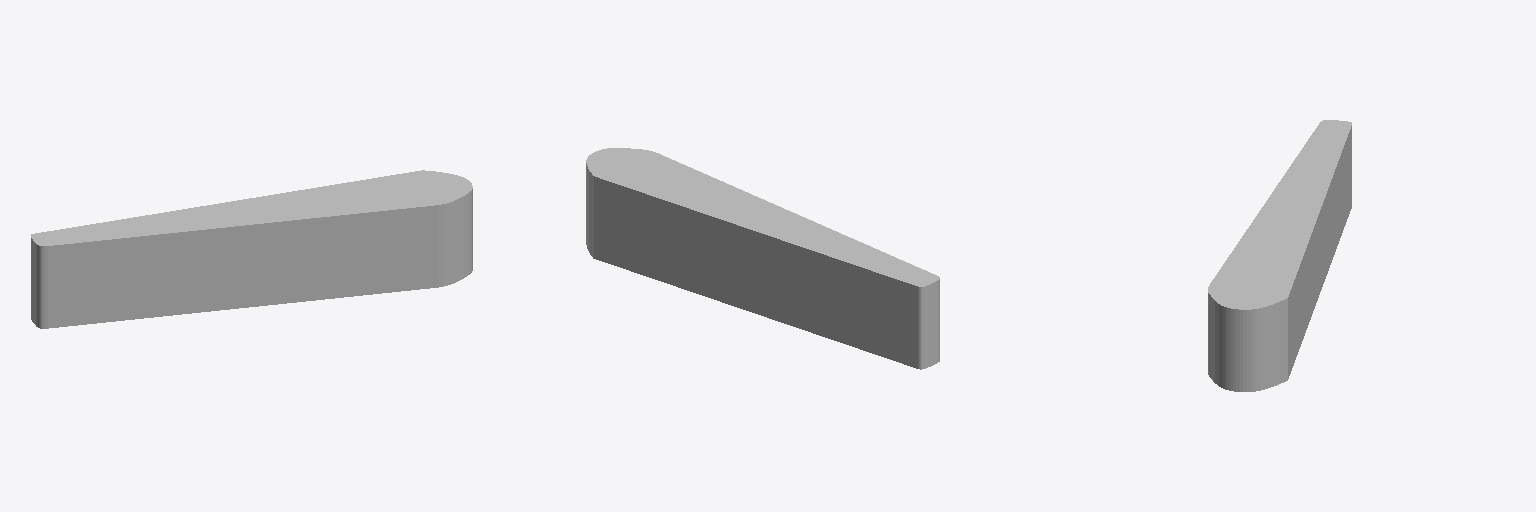
The model's file is paleta-esq2.obj.
The picture shows the model from 3 angles: view 1: azimuth 30°, elevation 25°; view 2: azimuth 150°, elevation 25°; view 3: azimuth 270°, elevation 25°; orthographic projection.
Visible parts, largest first — view 1: paleta-esq_Mesh.010; view 2: paleta-esq_Mesh.010; view 3: paleta-esq_Mesh.010.
Part boxes in pixels (left/top/right/bottom): paleta-esq_Mesh.010: left=31, top=170, right=472, bottom=328; paleta-esq_Mesh.010: left=586, top=148, right=939, bottom=369; paleta-esq_Mesh.010: left=1208, top=120, right=1351, bottom=391.
Bounding box in the file's own units: 0.0934 × 0.0189 × 0.0301.